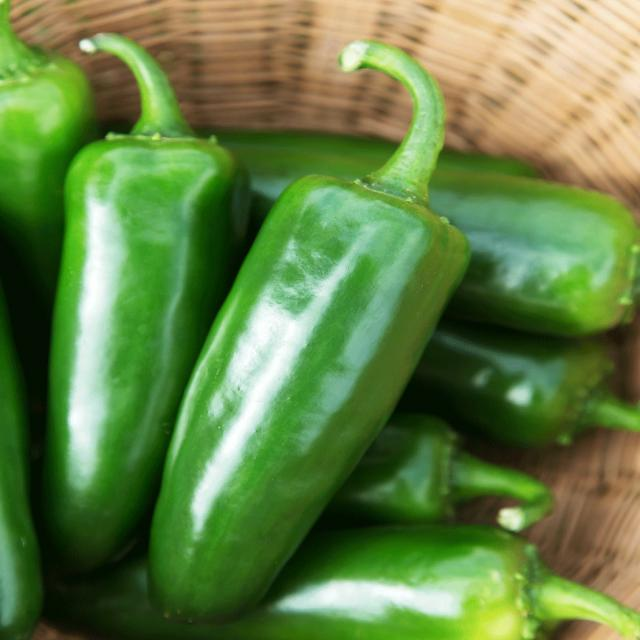aji: (145, 180, 410, 630), (51, 75, 210, 580)
